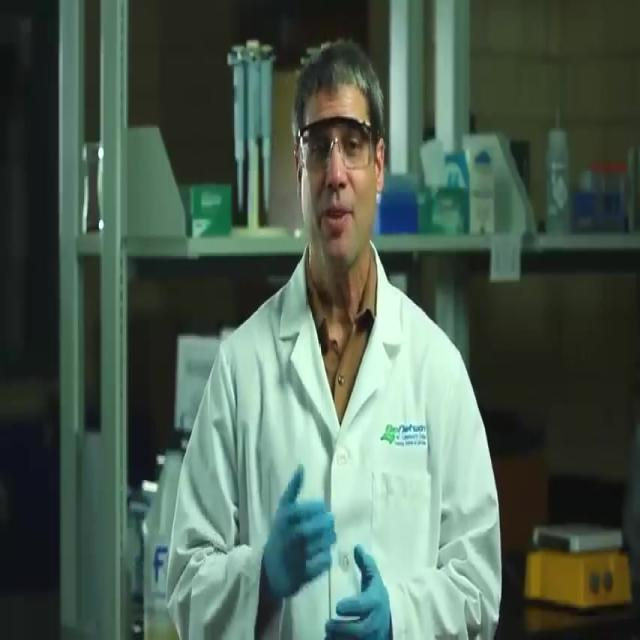googles: (296, 115, 368, 175)
labcoat: (168, 240, 502, 640)
